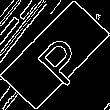P_NW: (24, 24, 86, 86)
